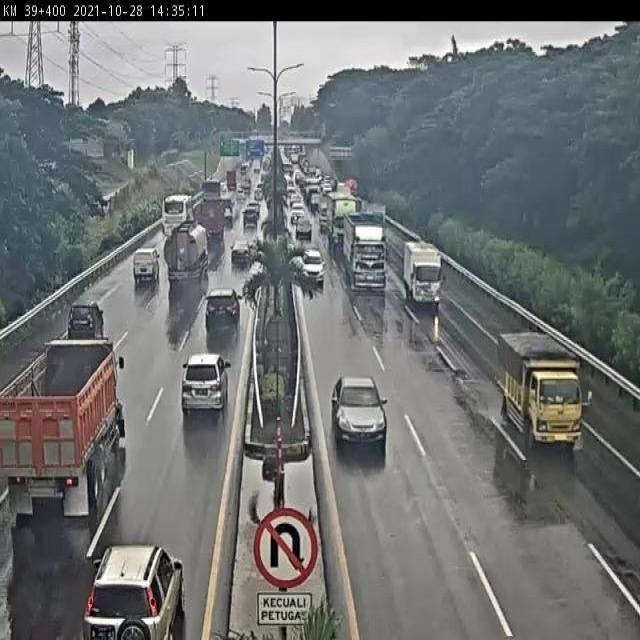big truck: (0, 335, 127, 517), (341, 210, 386, 294), (326, 191, 359, 249)
car: (81, 536, 187, 640), (332, 375, 388, 452), (181, 351, 231, 417), (205, 287, 242, 333), (66, 301, 106, 339), (132, 247, 161, 285), (300, 250, 326, 286), (230, 240, 253, 264), (295, 216, 313, 240), (242, 208, 259, 229), (290, 201, 306, 223), (309, 192, 324, 212), (319, 210, 330, 233), (289, 193, 303, 208), (235, 188, 247, 203), (254, 187, 264, 201)
small bus: (161, 193, 196, 239)
small truck: (496, 328, 594, 449), (163, 220, 210, 287), (402, 240, 446, 308), (198, 198, 227, 242)
